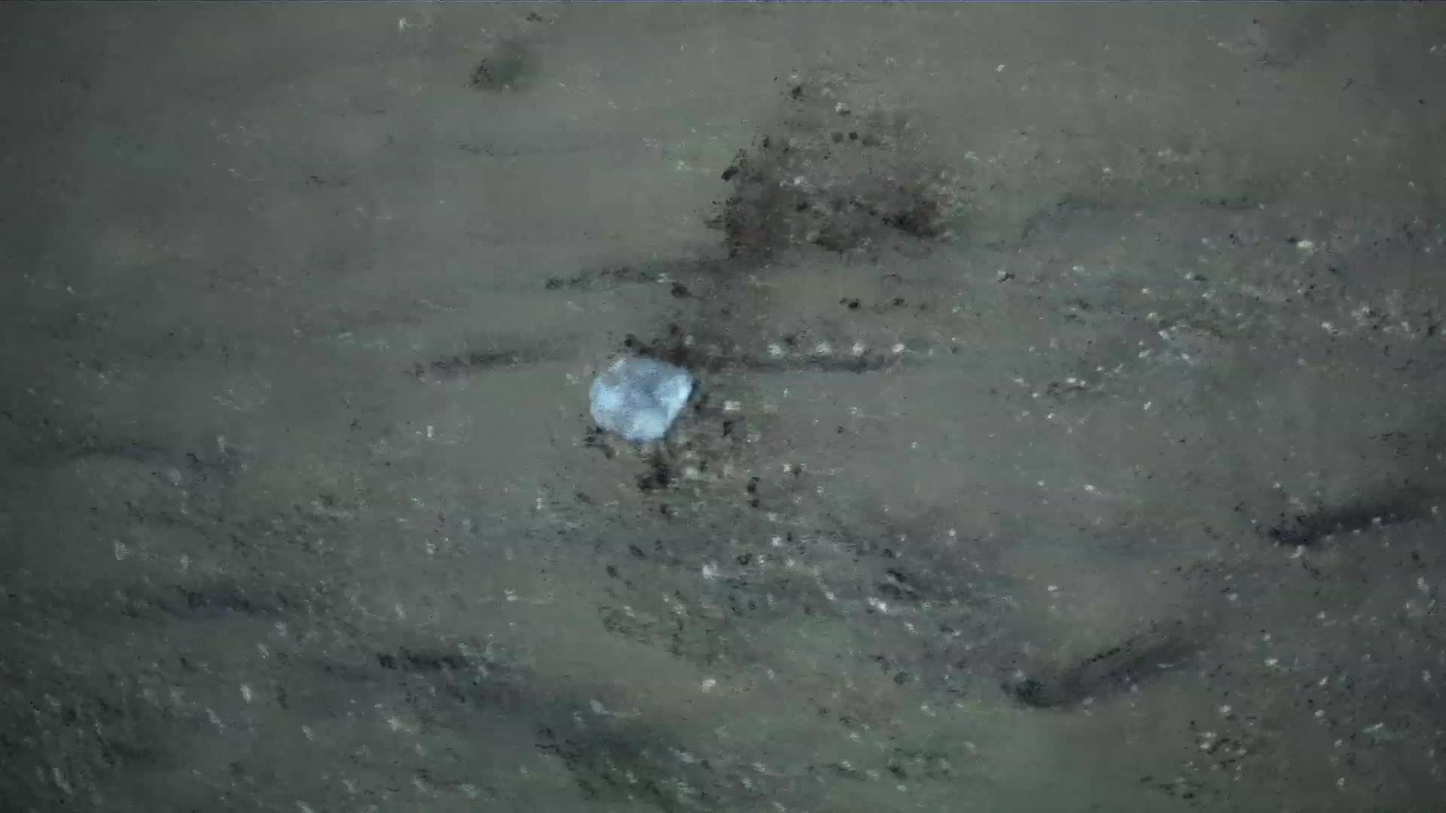Target: (581, 342, 698, 447)
